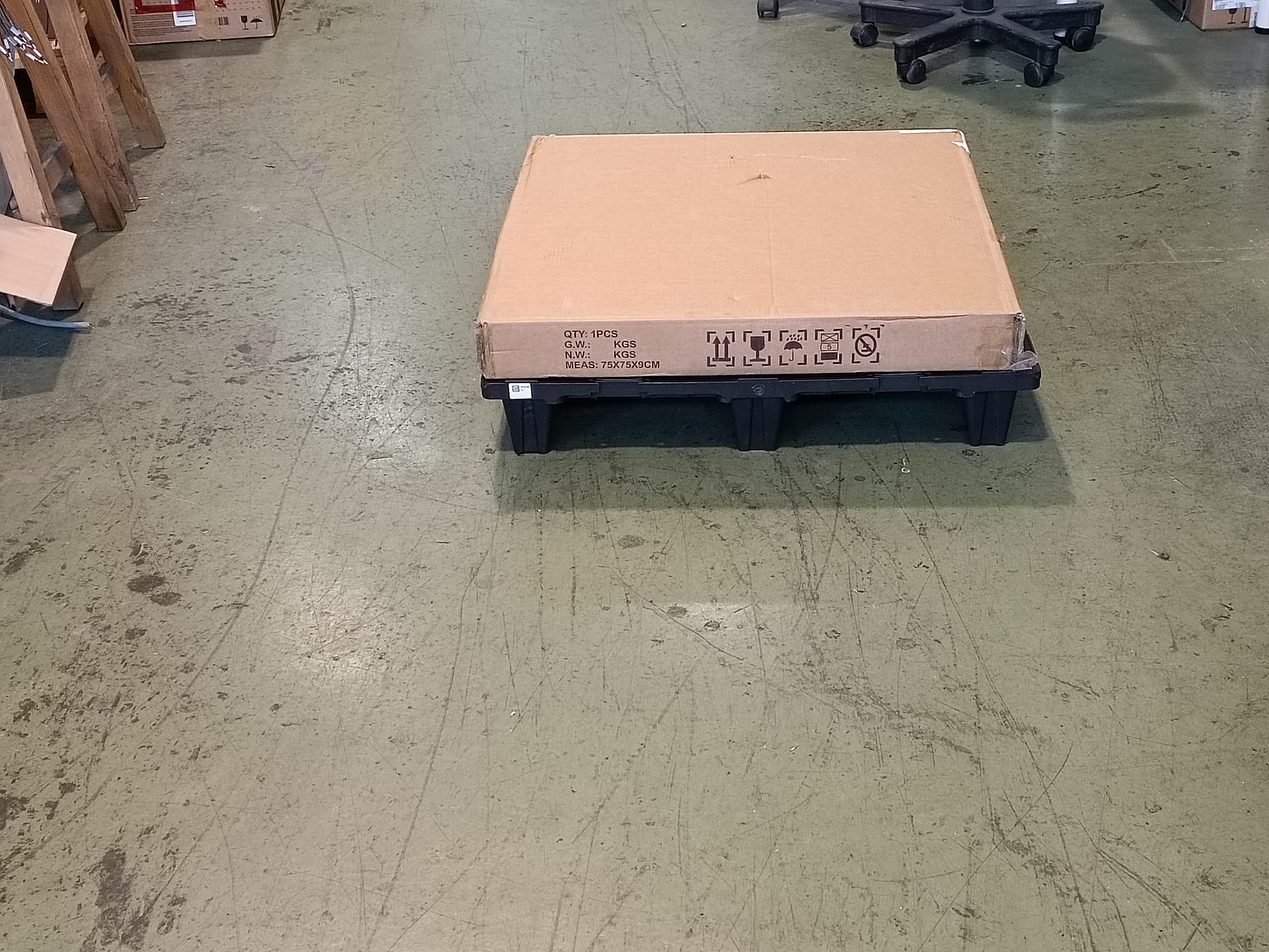block: (723, 390, 794, 452), (501, 397, 561, 467), (957, 382, 1015, 452)
front: (484, 370, 1042, 452)
hole pallet: (776, 400, 968, 453), (542, 401, 735, 452)
